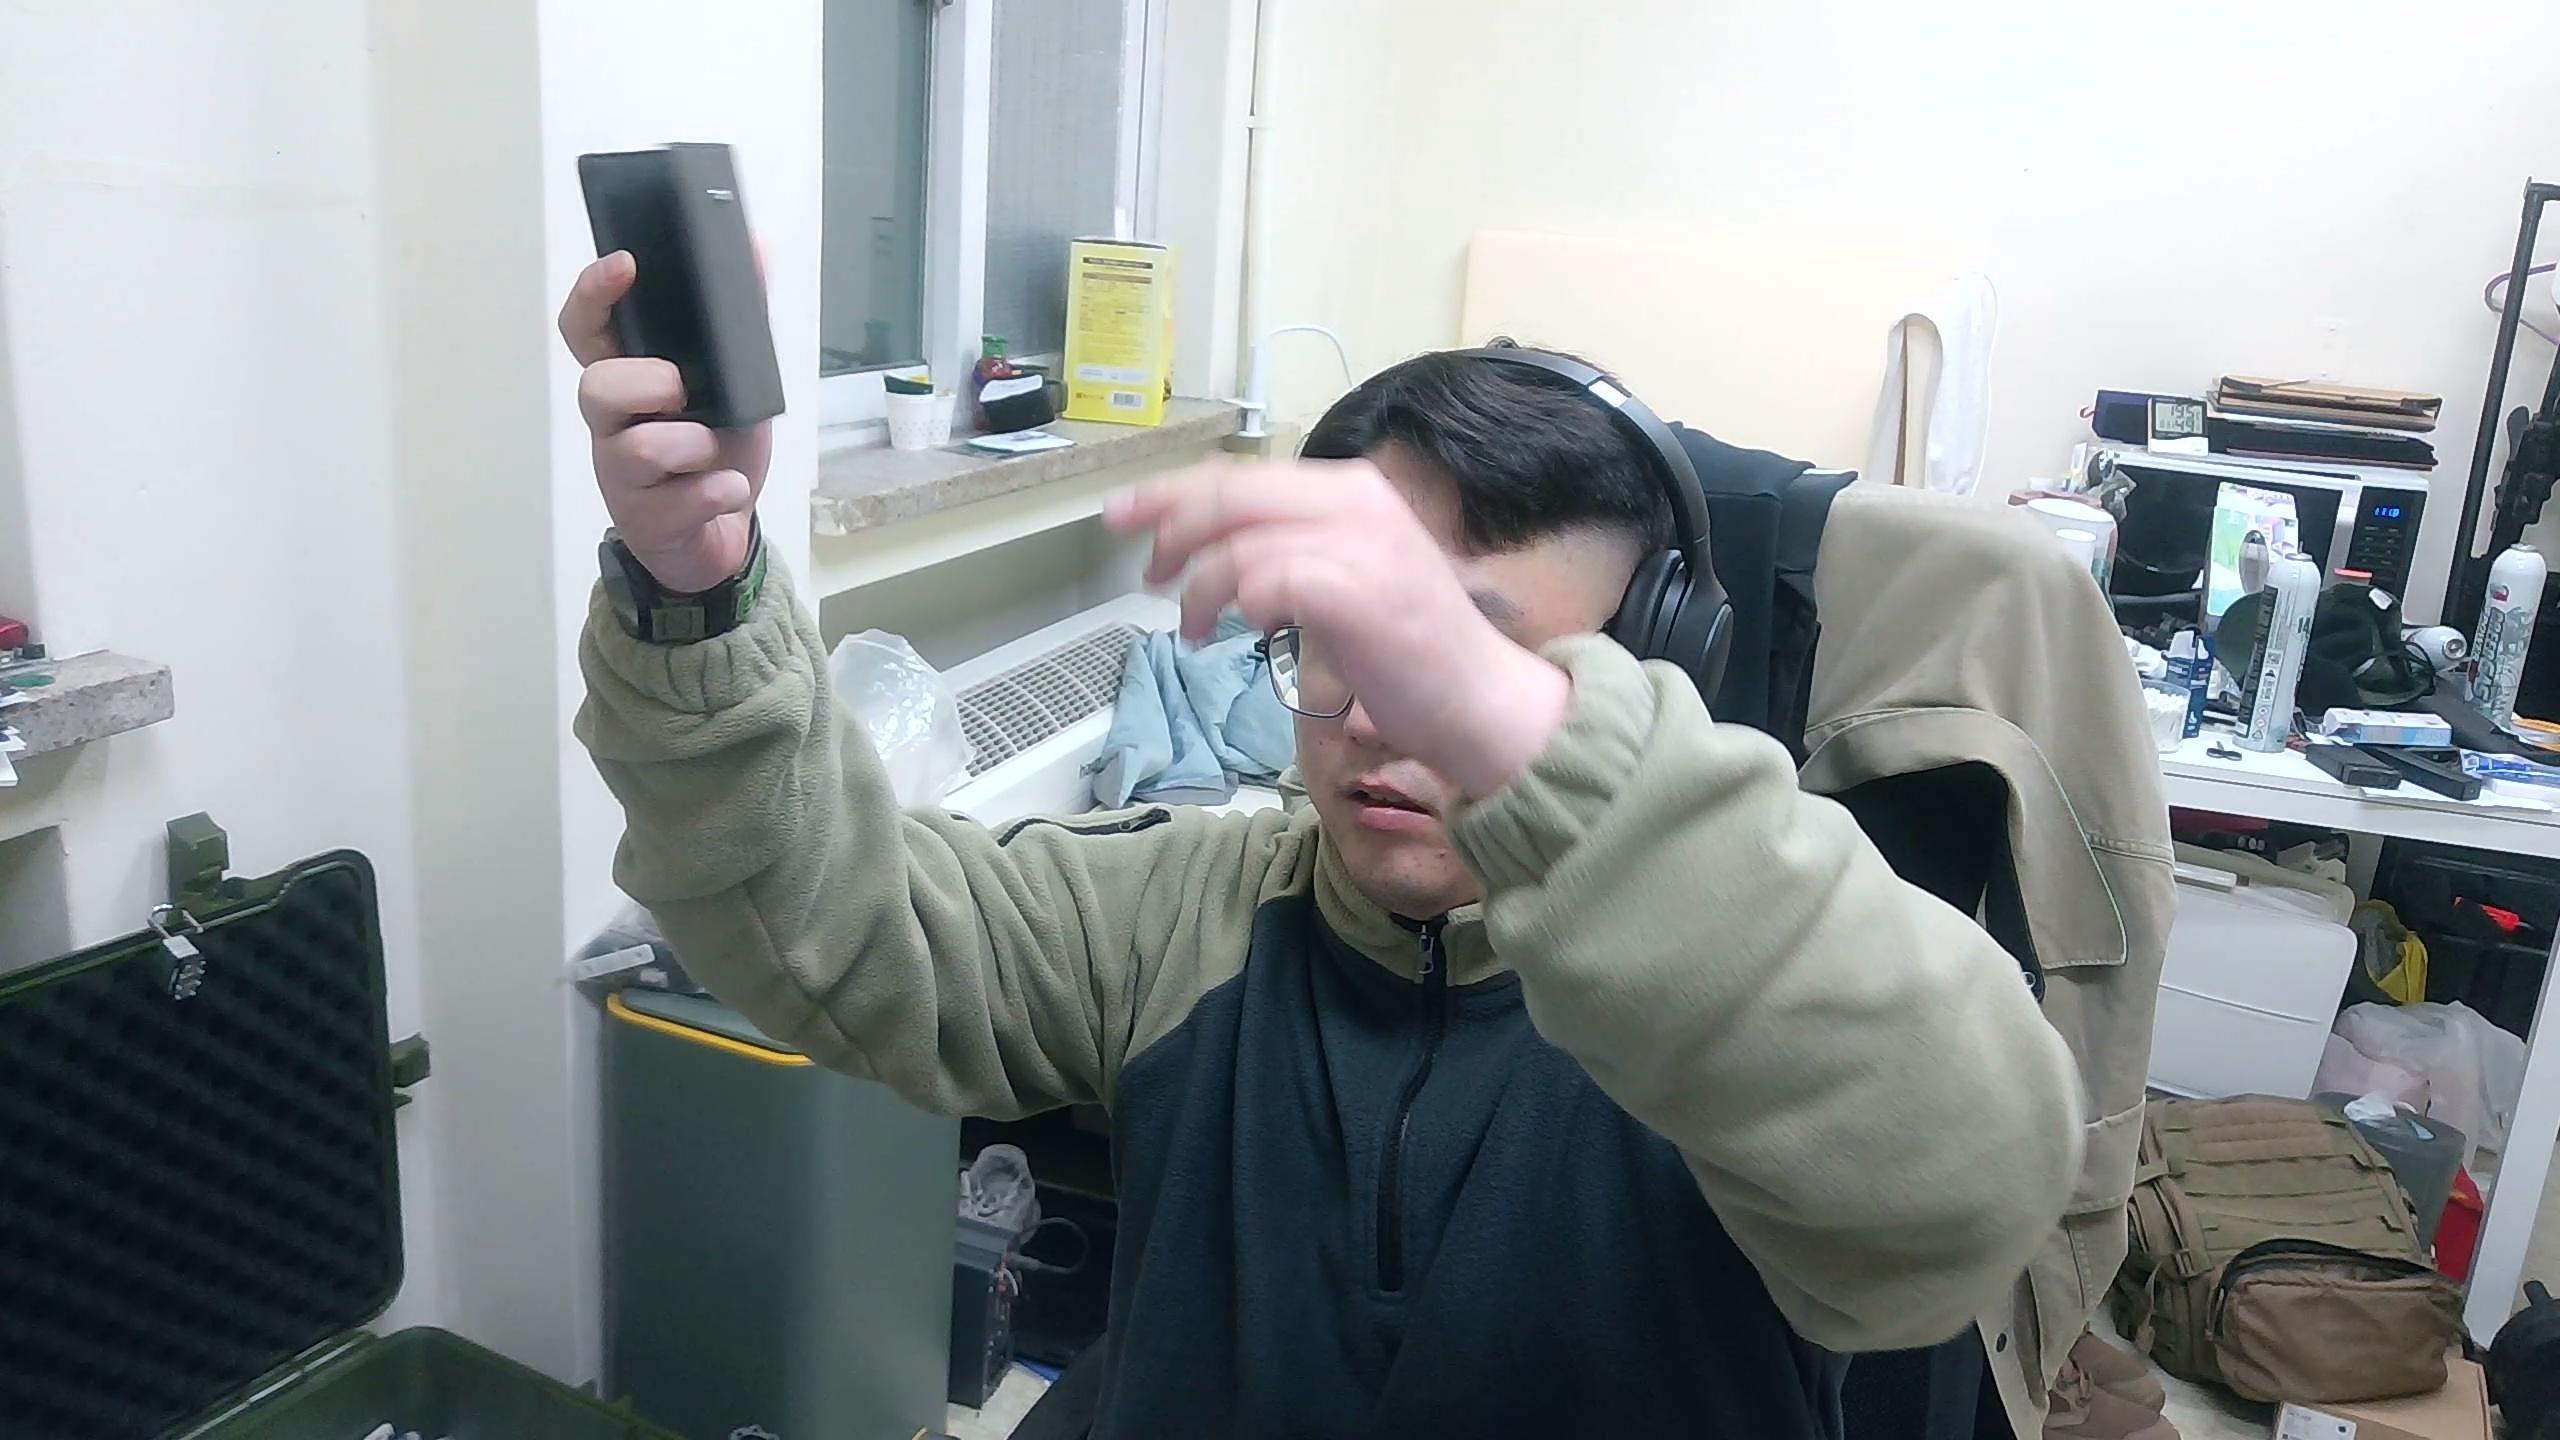earphone: (575, 137, 788, 434)
